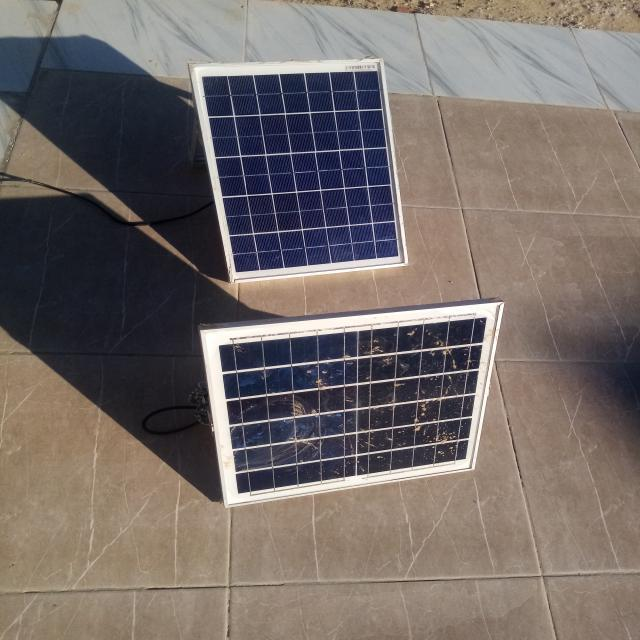faulty: (206, 302, 507, 508)
no faulty: (189, 58, 407, 282)
